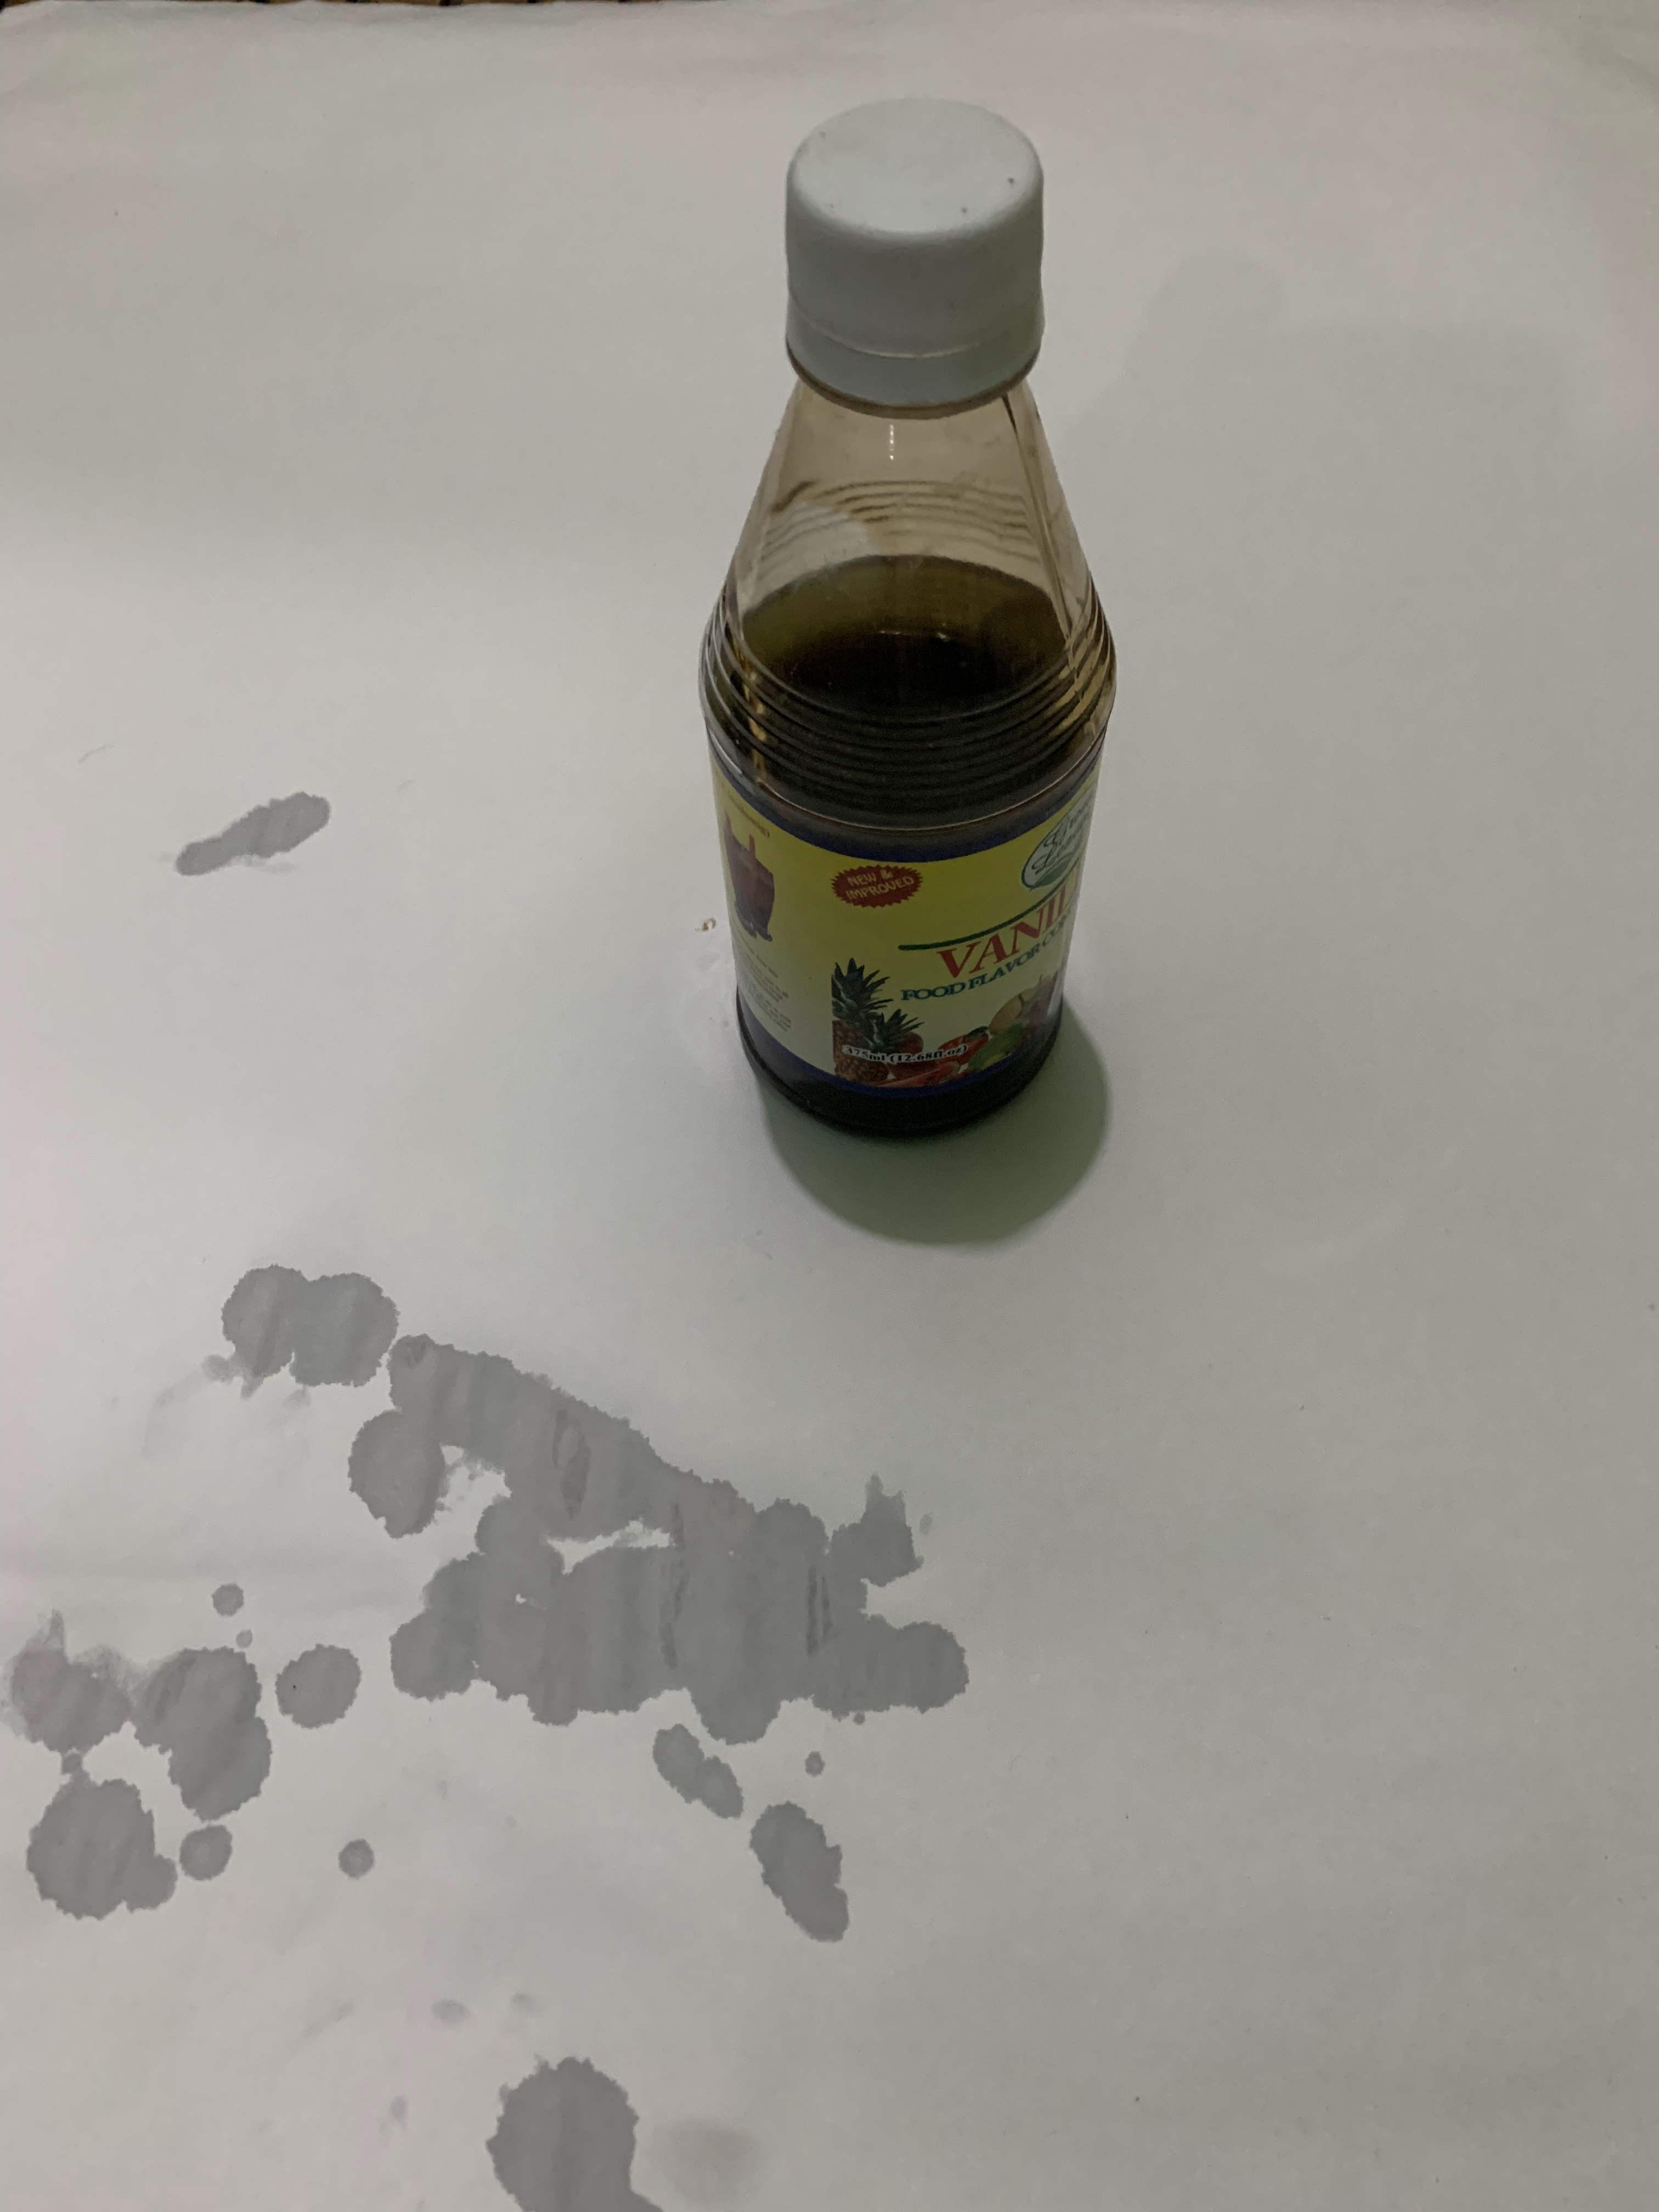bottle: (0, 84, 295, 1162)
